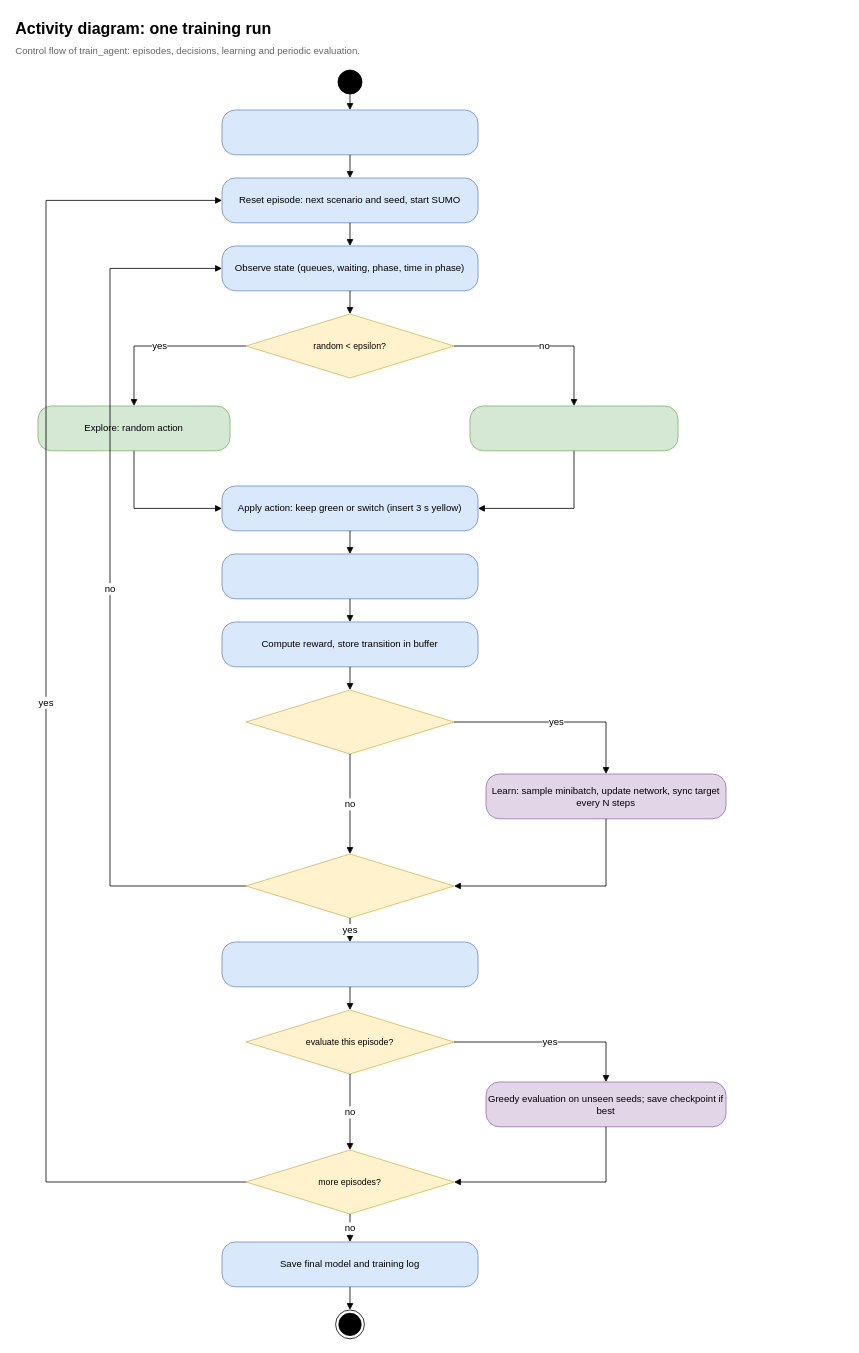
Image size: 859x1353. Some labels were removed from this diagram. Here are the shapes that lost their labels. From the top down, the box of each, then its label:
(221, 109, 478, 155): Load config, create environment and agent
(469, 405, 678, 451): Exploit: action with highest Q-value
(221, 553, 478, 599): Advance SUMO 5 s, add the cost every second
(245, 689, 454, 754): buffer has enough transitions?
(245, 853, 454, 918): episode over (30 simulated min)?
(221, 941, 478, 987): Decay epsilon, log episode metrics
